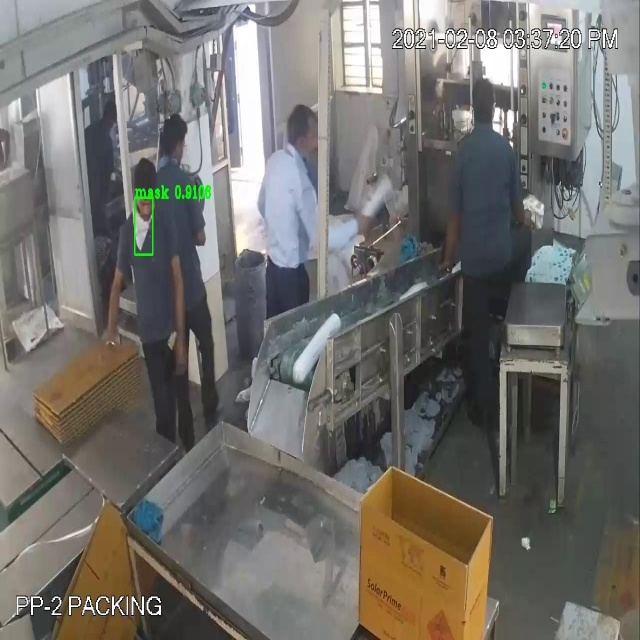Sin_guantes: (163, 234, 191, 385), (105, 246, 130, 353)
